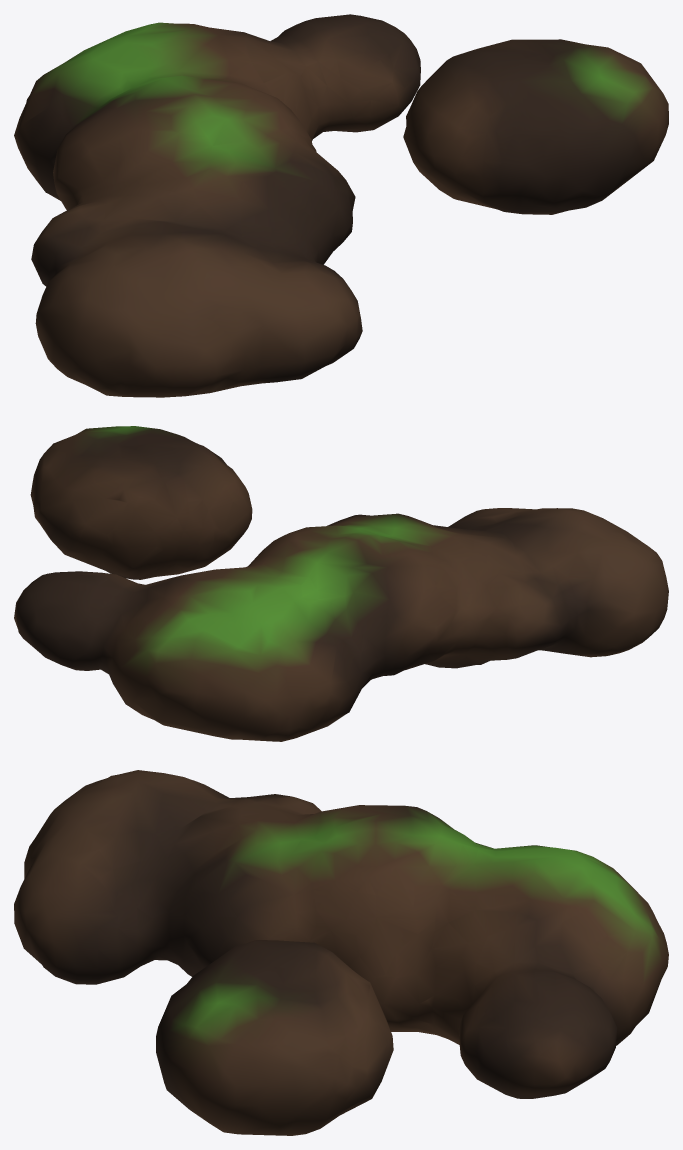
Rendered from canopy_soil_clod_c.glb.
3 renders of one model, top to bottom at view 1: azimuth 30°, elevation 25°; view 2: azimuth 150°, elevation 25°; view 3: azimuth 270°, elevation 25°, orthographic. The views are drawn at different scales.
Parts seen in each view (by area): view 1: canopy_soil_clod_c; view 2: canopy_soil_clod_c; view 3: canopy_soil_clod_c.
Boxes of the visible parts, x1,y1,x2,y2 form: canopy_soil_clod_c: (14, 14, 668, 397); canopy_soil_clod_c: (14, 426, 668, 741); canopy_soil_clod_c: (14, 770, 668, 1135).
Bounding box in the file's own units: 7.86 × 1.79 × 6.6.
